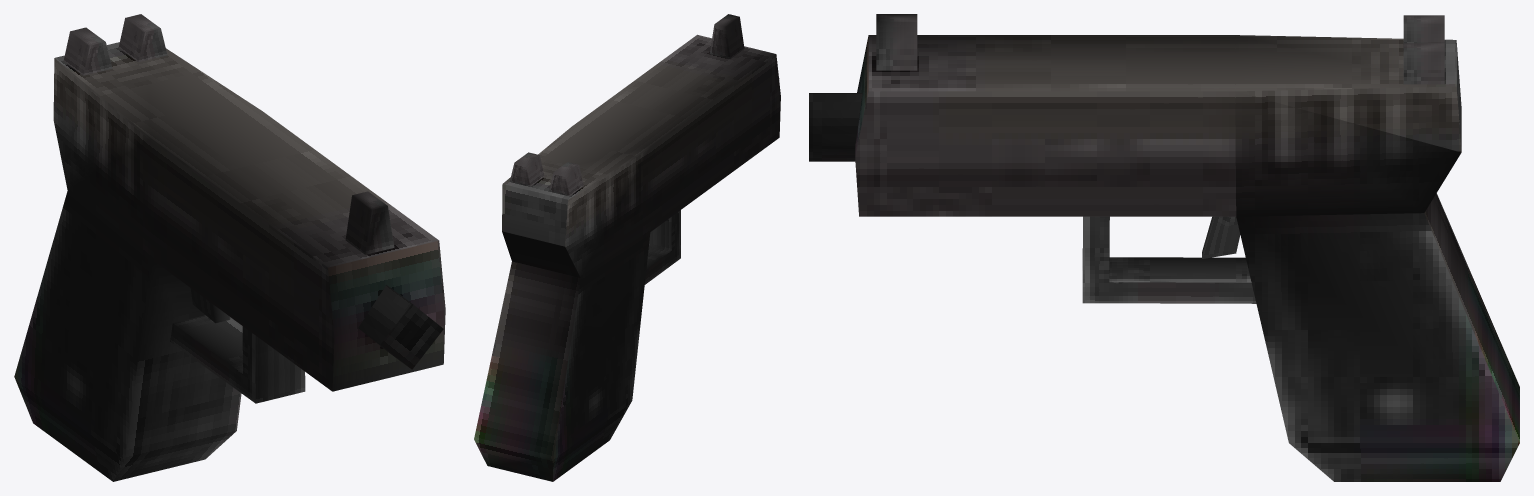
File: Pistol.glb
The picture shows the model from 3 angles, left to right: view 1: azimuth 30°, elevation 25°; view 2: azimuth 150°, elevation 25°; view 3: azimuth 270°, elevation 25°; orthographic projection. The views are drawn at different scales.
Visible parts, largest first — view 1: Pistol; view 2: Pistol; view 3: Pistol.
Boxes of the visible parts, x1,y1,x2,y2 form: Pistol: (14, 14, 445, 481); Pistol: (474, 14, 780, 481); Pistol: (809, 14, 1519, 481).
Bounding box in the file's own units: 0.0801 × 0.2918 × 0.4266.
1 material, 1 textured.
